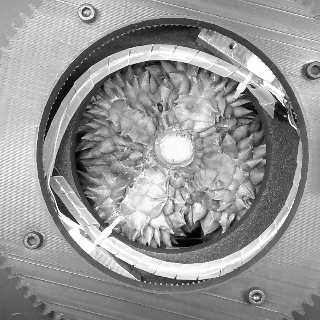base: (147, 127, 199, 174)
end: (159, 134, 194, 164)
